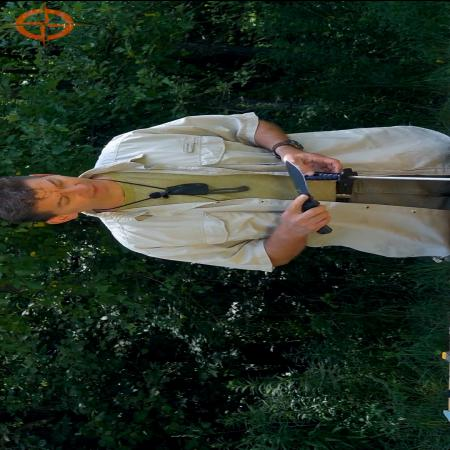long weapon: (271, 159, 335, 235)
